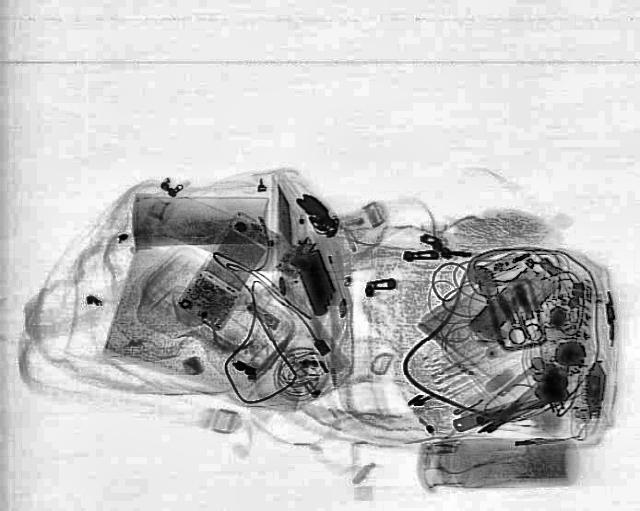Scissors: (494, 294, 548, 346)
